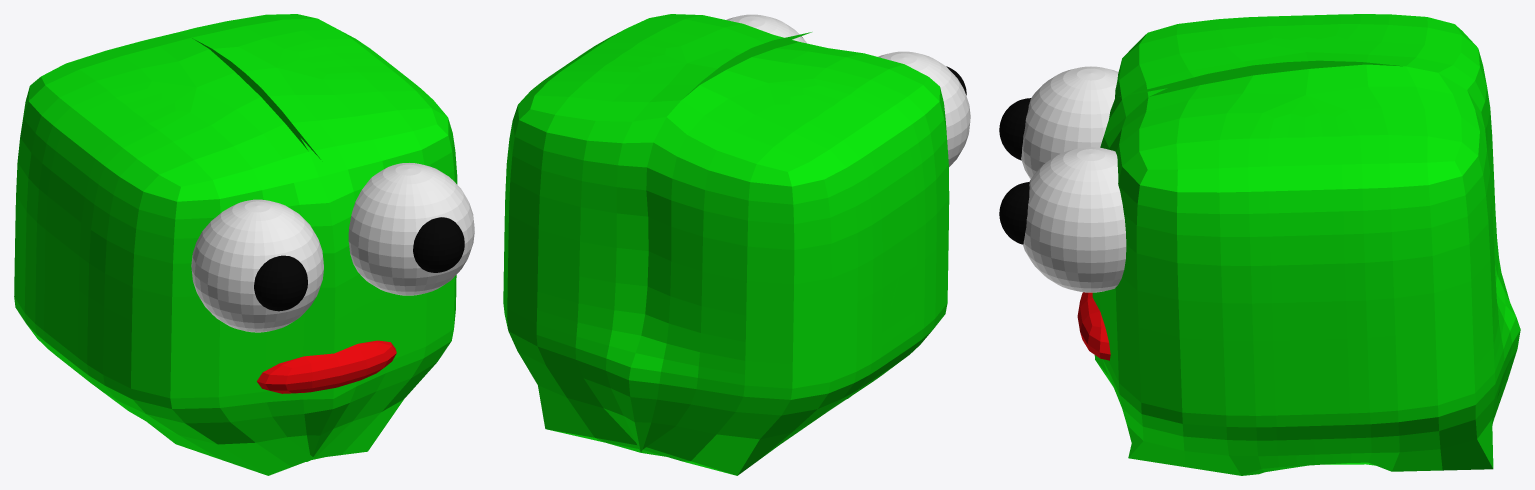
Rendered from Waqaj Cabeza2.fbx.
3 renders of one model, left to right at view 1: azimuth 30°, elevation 25°; view 2: azimuth 150°, elevation 25°; view 3: azimuth 270°, elevation 25°, orthographic. The views are drawn at different scales.
Parts seen in each view (by area): view 1: Cube, Esfera, Esfera.001, Cubo, Esfera.003, Esfera.002; view 2: Cube, Esfera, Esfera.001; view 3: Cube, Esfera.001, Esfera, Cubo, Esfera.002, Esfera.003.
Boxes of the visible parts, box(x1,y1,x2,y2) form: Cube: box(14, 14, 457, 475); Esfera: box(191, 199, 323, 332); Esfera.001: box(348, 163, 474, 295); Cubo: box(257, 340, 396, 393); Esfera.003: box(254, 255, 307, 311); Esfera.002: box(413, 217, 464, 272); Cube: box(503, 14, 949, 475); Esfera: box(878, 51, 970, 166); Esfera.001: box(726, 14, 806, 43); Cube: box(1092, 14, 1520, 475); Esfera.001: box(1023, 147, 1126, 292); Esfera: box(1021, 66, 1118, 179); Cubo: box(1077, 292, 1110, 360); Esfera.002: box(999, 182, 1029, 244); Esfera.003: box(999, 98, 1030, 160).
Size of the model in its own units: 189 by 188 by 226.
